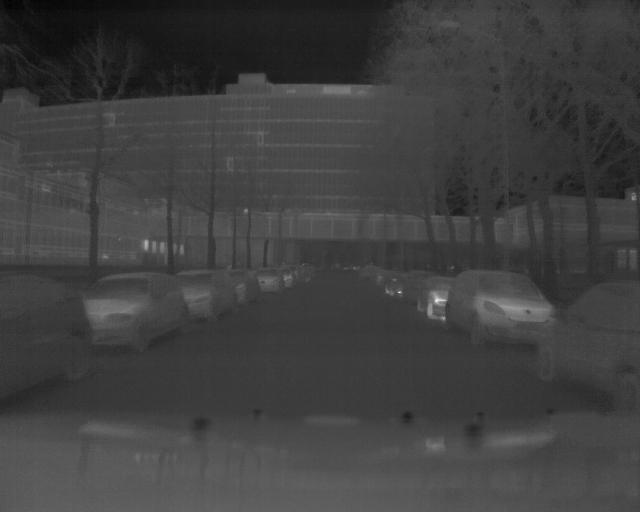car: (536, 283, 640, 402), (1, 272, 94, 386), (445, 266, 558, 352), (84, 272, 189, 352), (178, 267, 236, 322), (417, 272, 454, 321), (218, 265, 261, 306)
